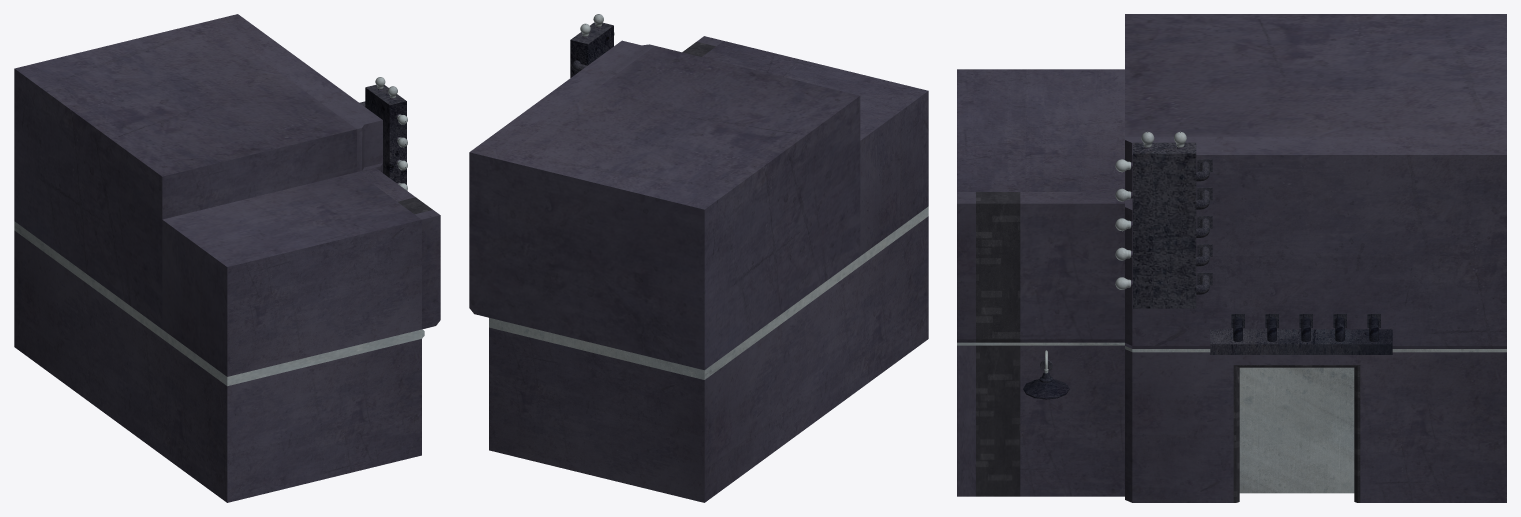
The model's file is arcade.fbx.
3 renders of one model, left to right at view 1: azimuth 30°, elevation 25°; view 2: azimuth 150°, elevation 25°; view 3: azimuth 270°, elevation 25°, orthographic. The views are drawn at different scales.
Visible parts, largest first — view 1: arcade; view 2: arcade; view 3: arcade.
Part boxes in pixels (x1,y1,x2,y2): arcade: (14, 14, 440, 502); arcade: (469, 14, 928, 502); arcade: (957, 14, 1506, 502).
Size of the model in its own units: 605 by 709 by 900.
